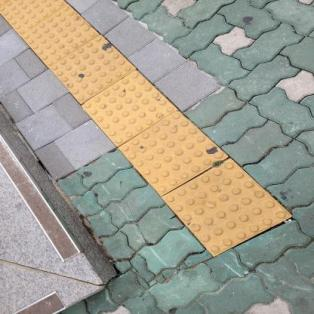Podoctatil: (0, 0, 297, 261)
